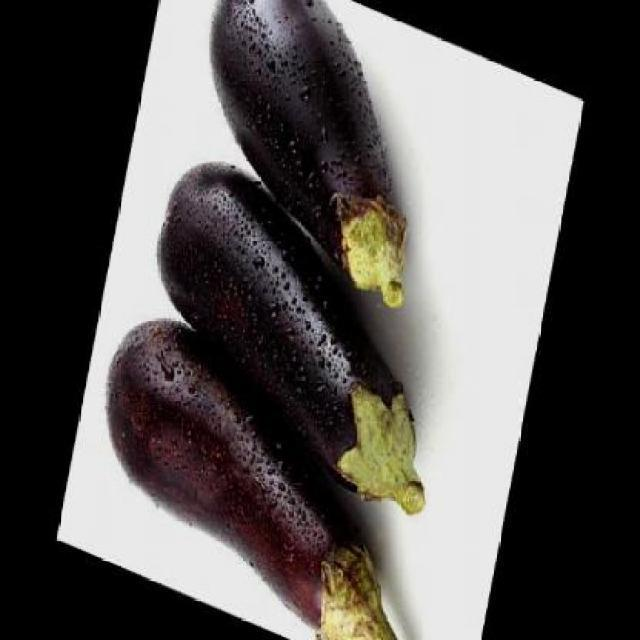eggplant: (76, 294, 464, 640), (126, 138, 471, 524), (173, 0, 456, 315)
